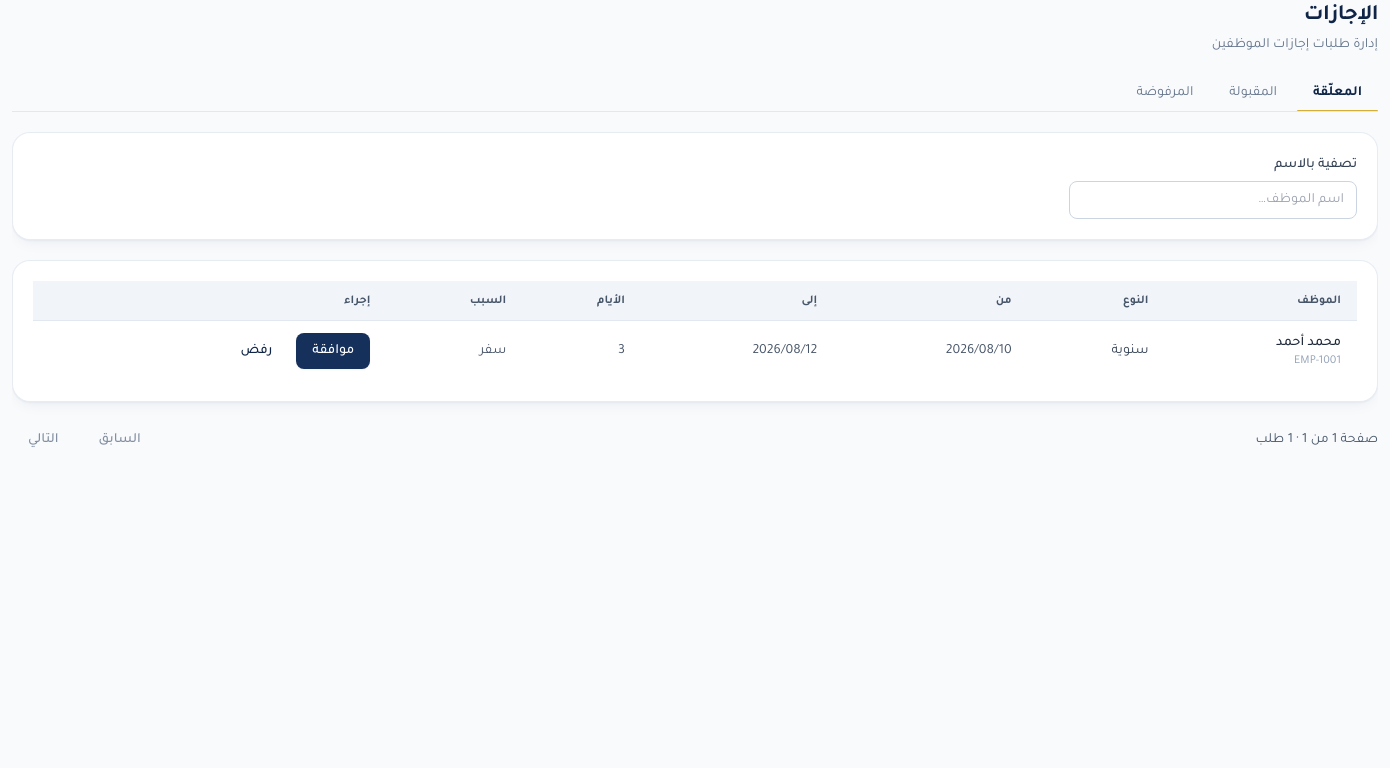
HrLeavePage › يرفض طلباً بسبب فيرسل POST reject مع السبب
expect the text "محمد أحمد" is shown: met, box [1276, 336, 1341, 350]
Click the button "رفض" at (256, 351), box [224, 333, 288, 369]
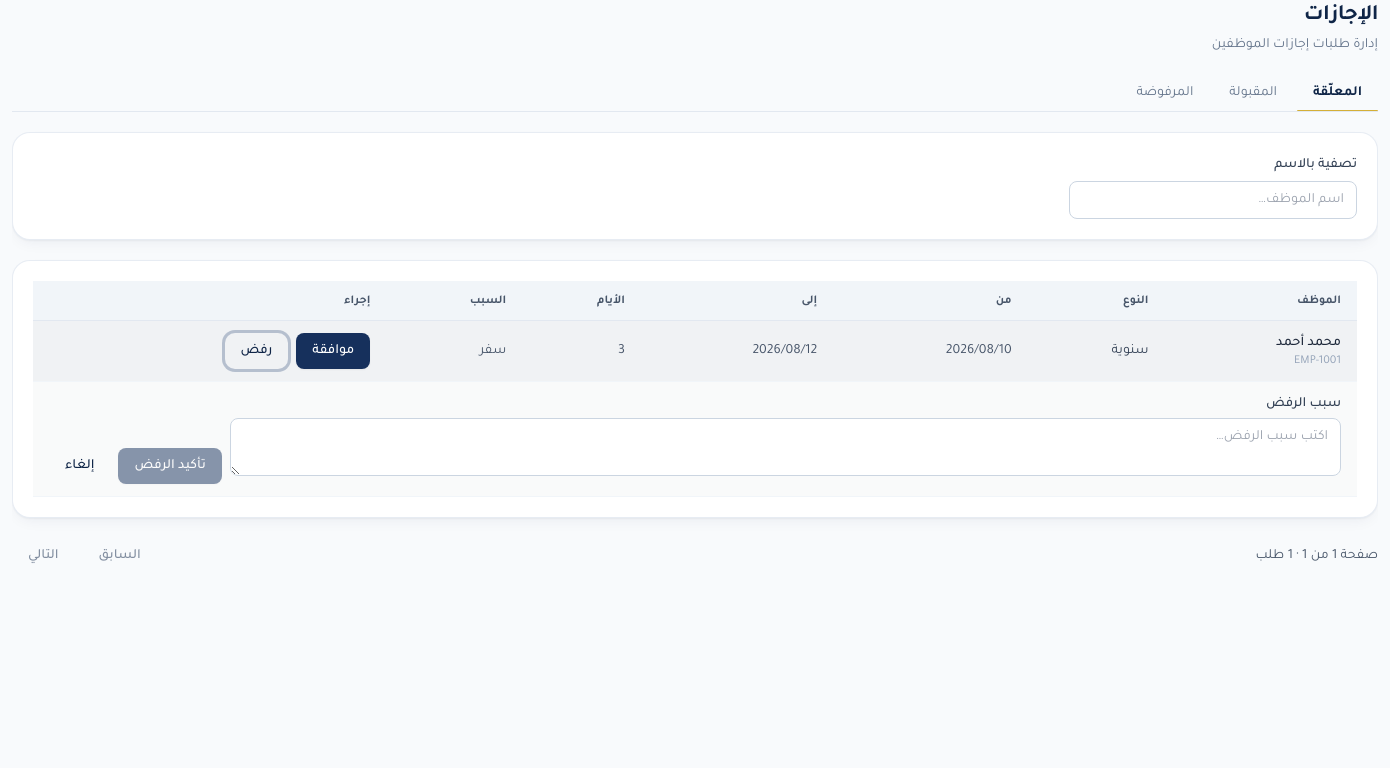
Type "الرصيد غير كافٍ" into the text box labelled "سبب الرفض" at (785, 447), box [230, 418, 1341, 476]
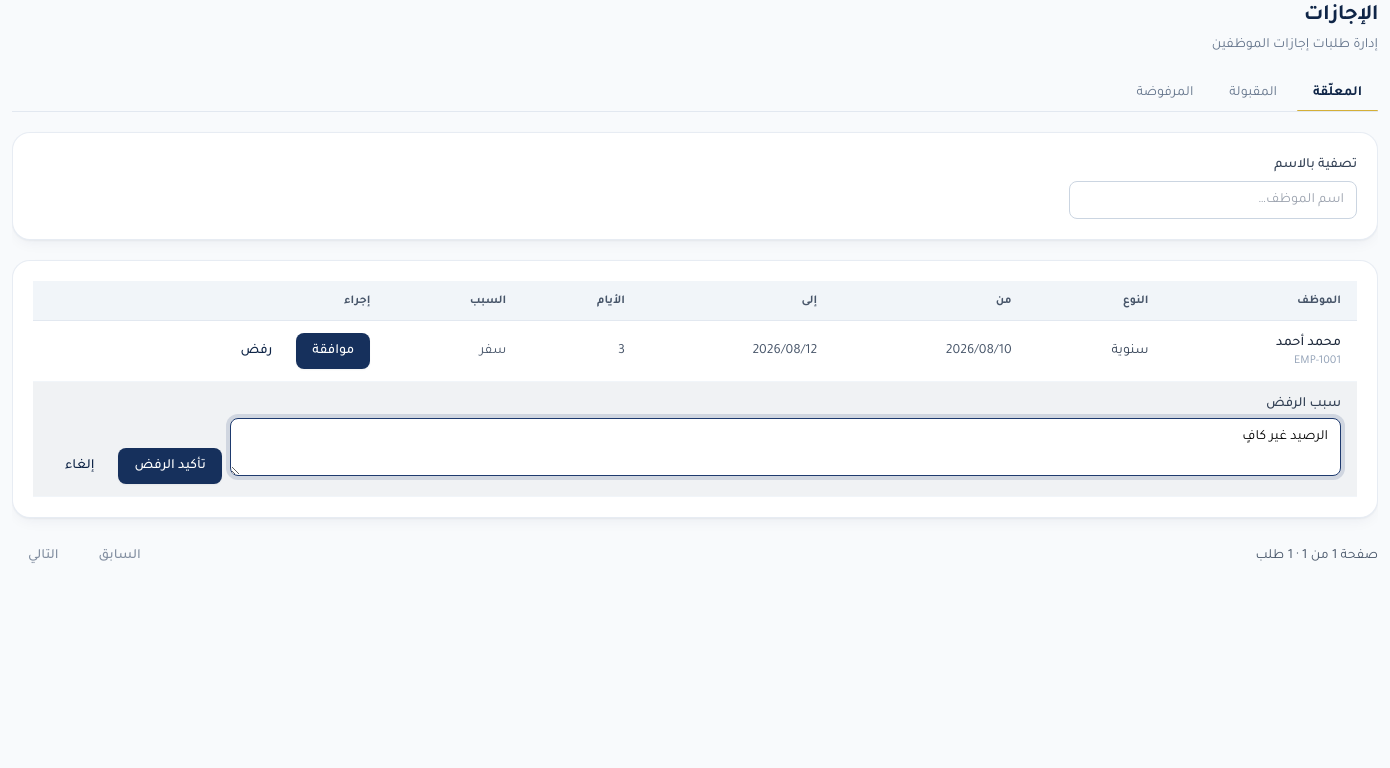
Click the button "تأكيد الرفض" at (170, 466), box [118, 448, 222, 484]
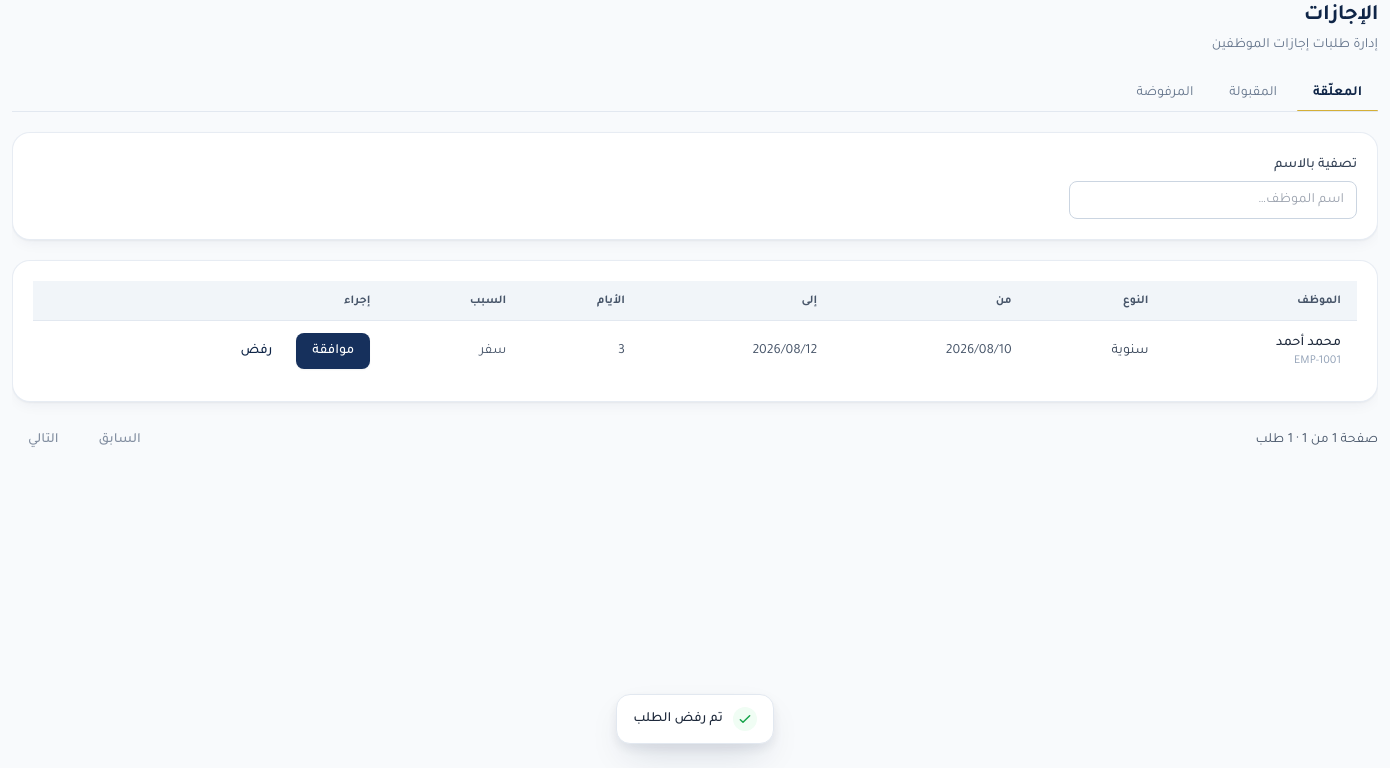
expect the text "تم رفض الطلب" is shown: met, box [633, 709, 723, 729]
